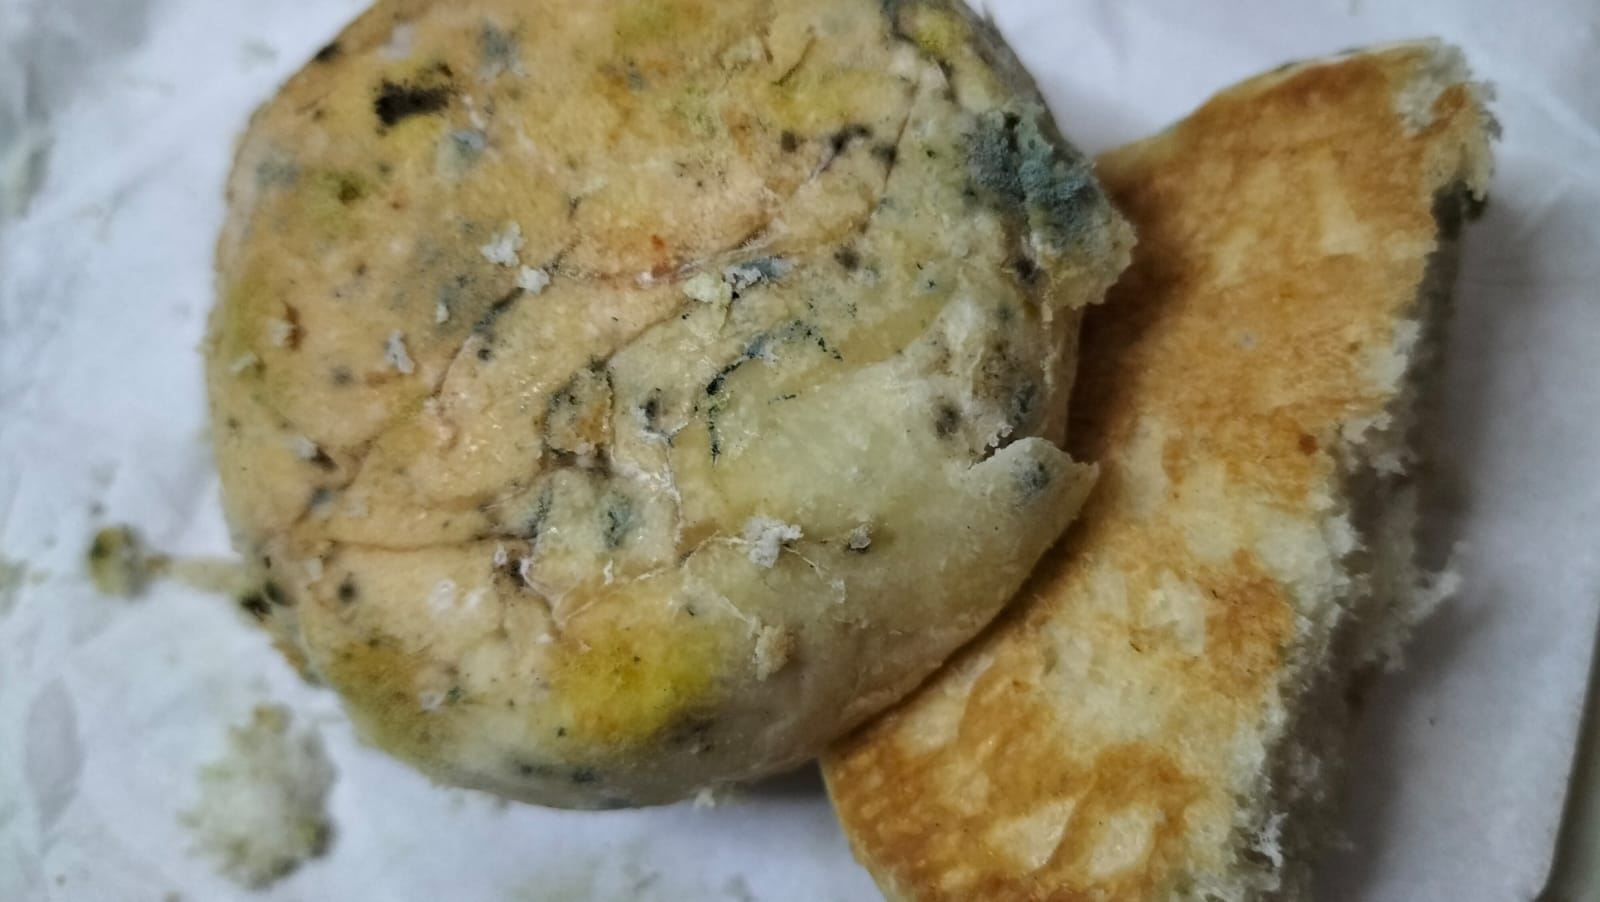mold_bread: (949, 101, 1118, 259), (413, 248, 512, 361), (763, 105, 905, 178), (354, 62, 474, 131), (578, 482, 655, 567), (702, 248, 798, 304), (235, 565, 297, 631), (1010, 446, 1064, 505), (322, 166, 373, 216), (327, 572, 376, 616)
